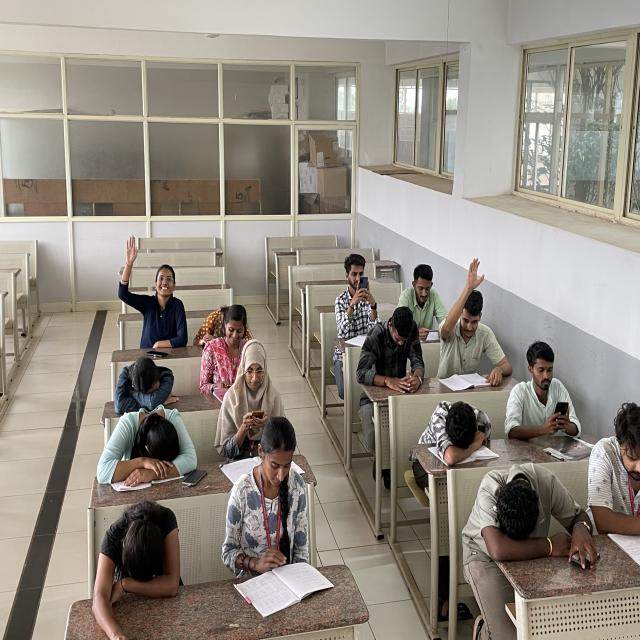Hand Rising: (438, 256, 508, 377), (115, 234, 186, 339)
Reading: (225, 415, 327, 594), (403, 263, 450, 341)
Sleeping: (477, 462, 594, 567), (88, 498, 184, 602), (96, 400, 199, 478), (415, 398, 491, 463), (113, 354, 181, 412)
Using Phone: (508, 335, 587, 434), (221, 340, 289, 448), (357, 304, 423, 388), (335, 254, 385, 333)
